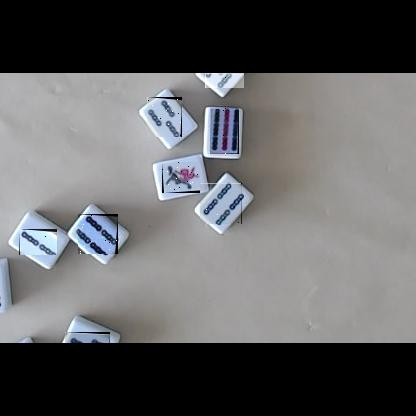1s: (162, 162, 200, 193)
2s: (19, 229, 57, 255)
3s: (147, 97, 182, 137), (65, 332, 110, 343)
4s: (200, 183, 242, 224), (78, 214, 118, 254)
5s: (205, 73, 244, 88)
9s: (210, 108, 239, 154)
